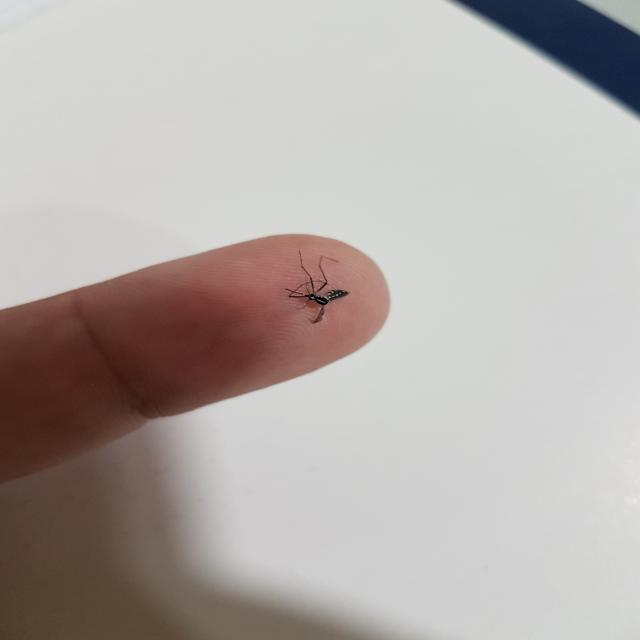albopictus: (275, 250, 358, 327)
